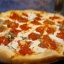pepperoni: (8, 10, 31, 24), (27, 31, 41, 42), (46, 25, 59, 36), (35, 25, 44, 34), (48, 15, 61, 20)
pizza: (1, 9, 64, 64)
